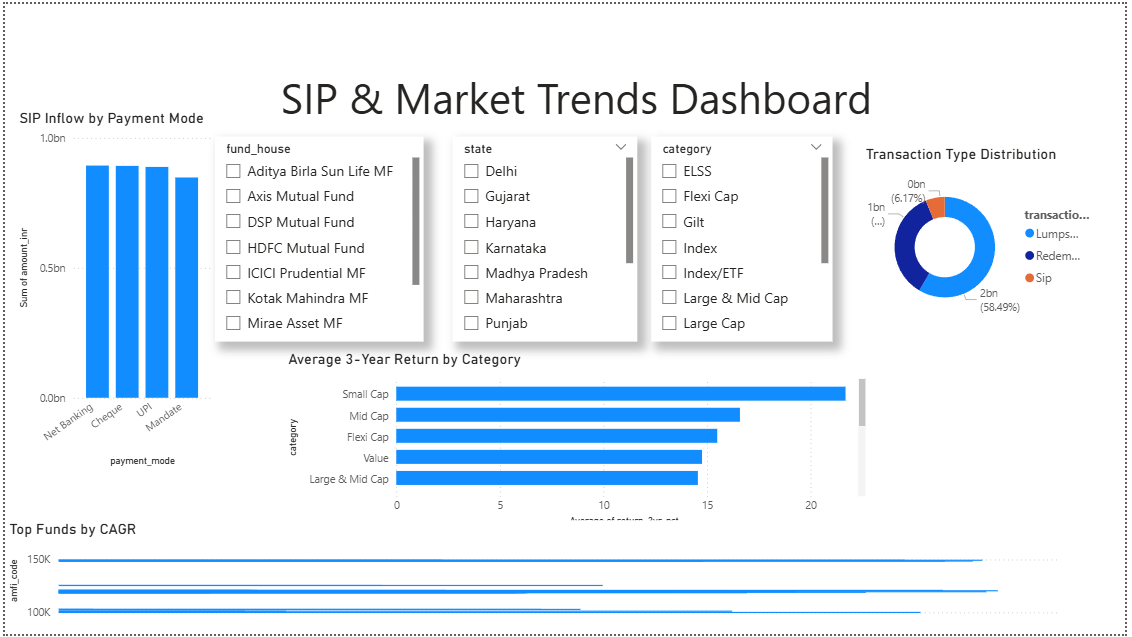

What the dashboard file says about the page in this screenshot:
{"tool":"powerbi","page":{"name":"SIP & Market Trends","canvas":[1280,720],"ordinal":3},"visuals":[{"type":"textbox","box":[46.7,68.6,1211.7,101.5],"z":1},{"type":"clusteredColumnChart","title":"SIP Inflow by Payment Mode","fields":{"Y":["Sum(08_transactions_clean.amount_inr)"],"Category":["08_transactions_clean.payment_mode"]},"box":[11,119.4,229.2,413],"z":2},{"type":"donutChart","title":"Transaction Type Distribution","fields":{"Category":["08_transactions_clean.transaction_type"],"Y":["Sum(08_transactions_clean.amount_inr)"]},"box":[978.4,161.9,270.3,214.1],"z":3},{"type":"barChart","title":"Average 3-Year Return by Category","fields":{"Category":["07_performance_clean.category"],"Y":["Avg(07_performance_clean.return_3yr_pct)"]},"box":[318.4,395.2,669.6,205.8],"z":4},{"type":"barChart","title":"Top Funds by CAGR","fields":{"Category":["cagr_report.amfi_code"],"Y":["Sum(cagr_report.cagr_pct)"]},"box":[0,590.1,1211.7,119.4],"z":5},{"type":"slicer","fields":{"Values":["07_performance_clean.fund_house"]},"box":[240.1,150.9,238.8,234.6],"z":6},{"type":"slicer","fields":{"Values":["08_transactions_clean.state"]},"box":[511.8,150.9,211.3,234.6],"z":7},{"type":"slicer","fields":{"Values":["07_performance_clean.category"]},"box":[738.3,150.9,207.2,234.6],"z":8}]}

Visuals, with their boxes in screenshot pixels (x1, y1, x2, y2), scaled from the page's 1280x720 canvas onto the 1132x637 screenshot:
textbox: bbox(41, 61, 1113, 150)
"SIP Inflow by Payment Mode" clusteredColumnChart: bbox(10, 106, 212, 471)
"Transaction Type Distribution" donutChart: bbox(865, 143, 1104, 333)
"Average 3-Year Return by Category" barChart: bbox(282, 350, 874, 532)
"Top Funds by CAGR" barChart: bbox(0, 522, 1072, 628)
slicer - 07_performance_clean.fund_house: bbox(212, 134, 424, 341)
slicer - 08_transactions_clean.state: bbox(453, 134, 639, 341)
slicer - 07_performance_clean.category: bbox(653, 134, 836, 341)
